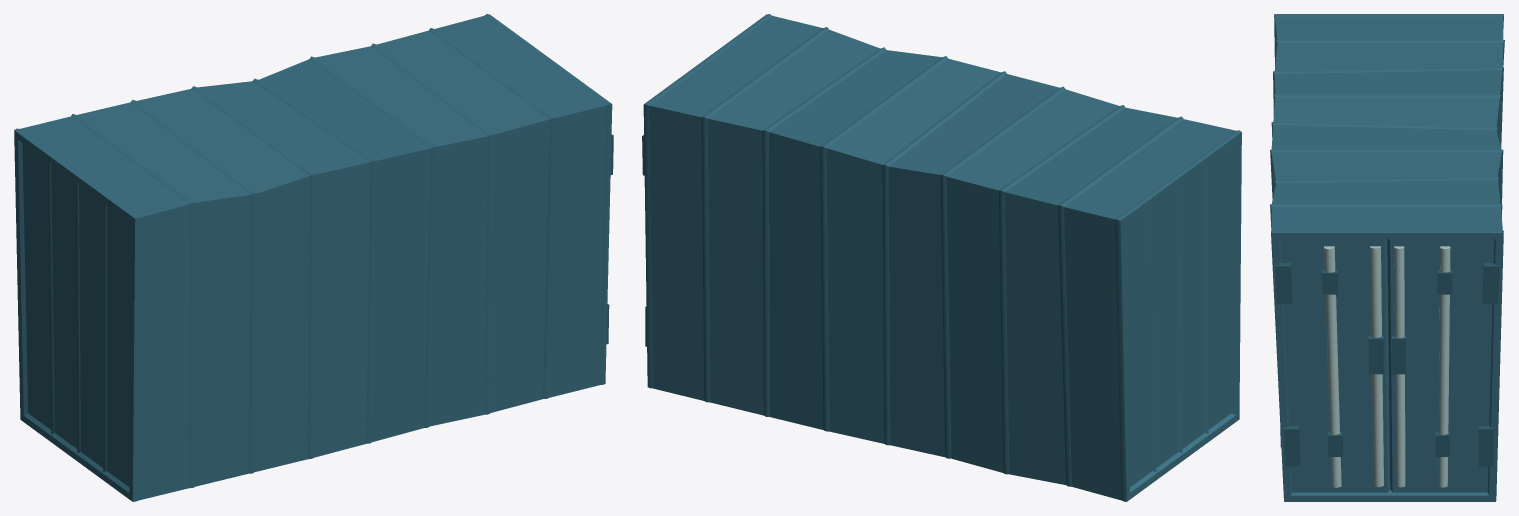
File: BO_Container_04.fbx
3 views of the same model, side by side, from view 1: azimuth 30°, elevation 25°; view 2: azimuth 150°, elevation 25°; view 3: azimuth 270°, elevation 25° (orthographic). The views are drawn at different scales.
Visible parts, largest first — view 1: BO_Container_04; view 2: BO_Container_04; view 3: BO_Container_04.
Part boxes in pixels (left/top/right/bottom): BO_Container_04: left=14, top=14, right=613, bottom=501; BO_Container_04: left=642, top=14, right=1241, bottom=501; BO_Container_04: left=1270, top=14, right=1504, bottom=501.
Bounding box in the file's own units: 700 × 400 × 315.
